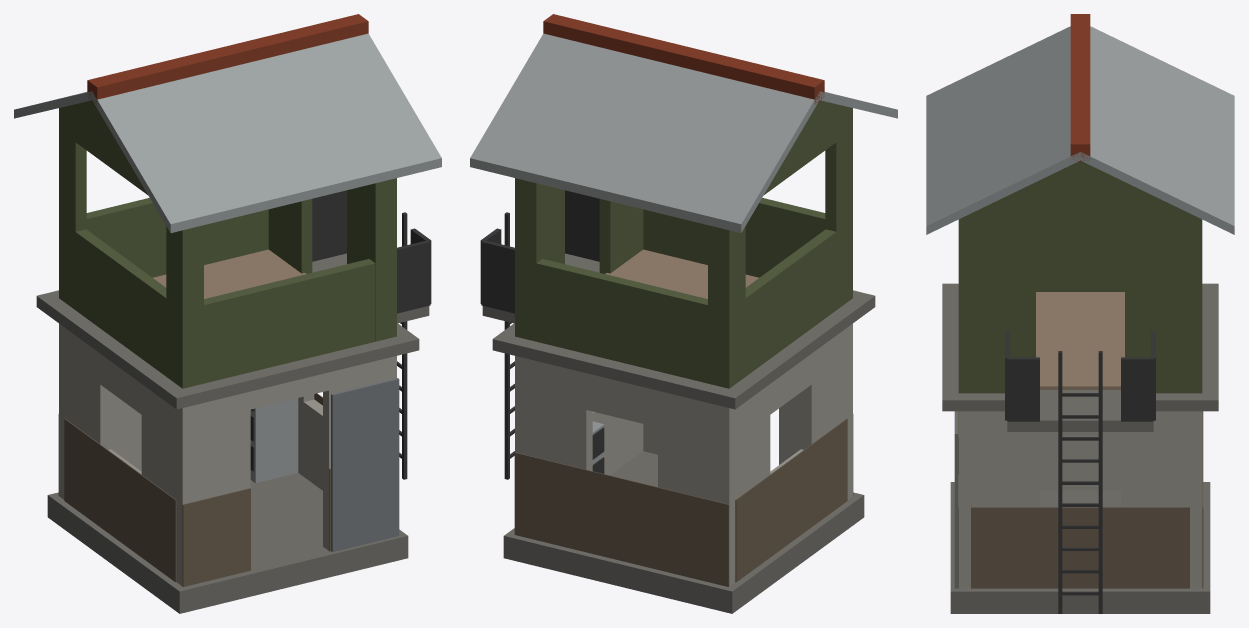
The model's file is guarita_a.glb.
3 renders of one model, left to right at view 1: azimuth 30°, elevation 25°; view 2: azimuth 150°, elevation 25°; view 3: azimuth 270°, elevation 25°, orthographic.
Visible parts, largest first — view 1: guarita_a; view 2: guarita_a; view 3: guarita_a.
Boxes of the visible parts, <box> form: guarita_a: <box>14,14,441,613</box>; guarita_a: <box>470,14,897,613</box>; guarita_a: <box>926,14,1234,613</box>.
Size of the model in its own units: 4.25 by 6.52 by 3.8.
